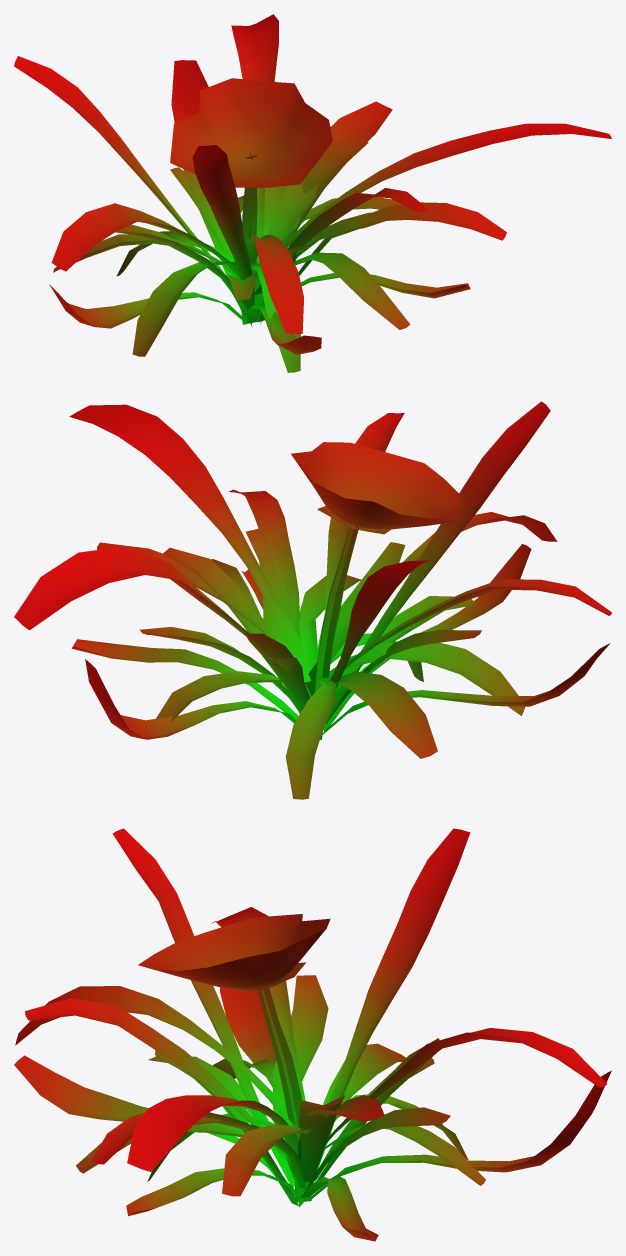
The model's file is Var3_LOD0.fbx.
3 renders of one model, top to bottom at view 1: azimuth 30°, elevation 25°; view 2: azimuth 150°, elevation 25°; view 3: azimuth 270°, elevation 25°, orthographic. The views are drawn at different scales.
Parts seen in each view (by area): view 1: _5756_Var3_LOD0; view 2: _5756_Var3_LOD0; view 3: _5756_Var3_LOD0.
Part boxes in pixels (x1=…): _5756_Var3_LOD0: x1=14, y1=14, x2=611, y2=372; _5756_Var3_LOD0: x1=14, y1=401, x2=611, y2=799; _5756_Var3_LOD0: x1=14, y1=828, x2=611, y2=1241.
Bounding box in the file's own units: 43.79 × 21.7 × 38.62.
